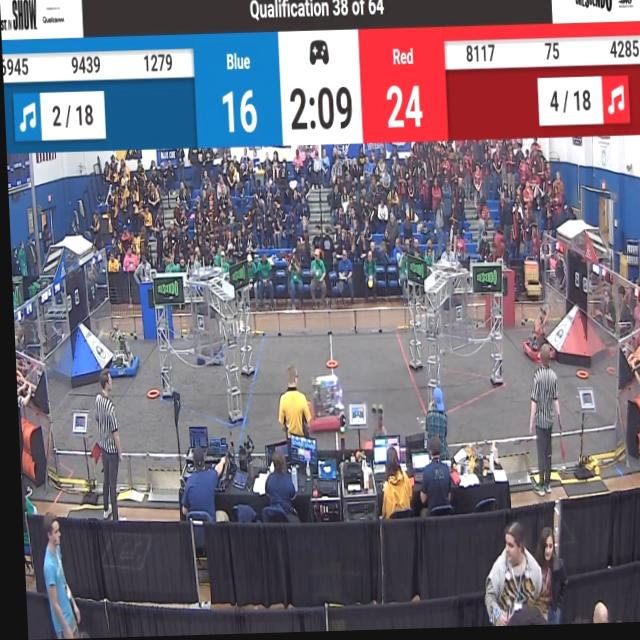Robot: (306, 367, 346, 436), (191, 312, 224, 372), (103, 329, 137, 384), (516, 310, 547, 370)
